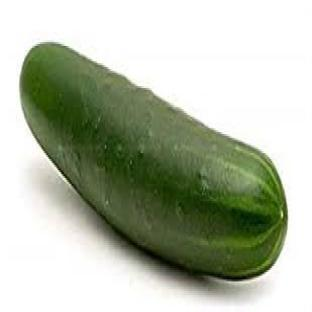Cucumber: (21, 45, 287, 279)
